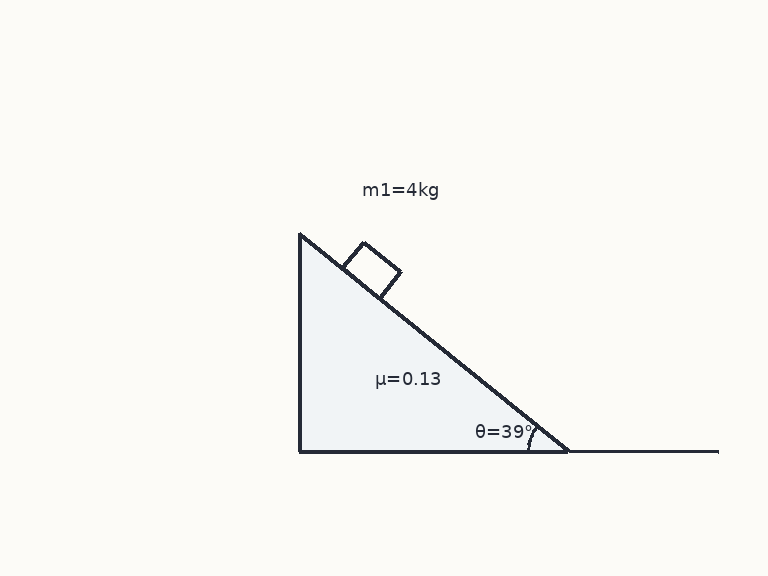block: (341, 240, 402, 300)
ramp: (297, 231, 570, 453)
